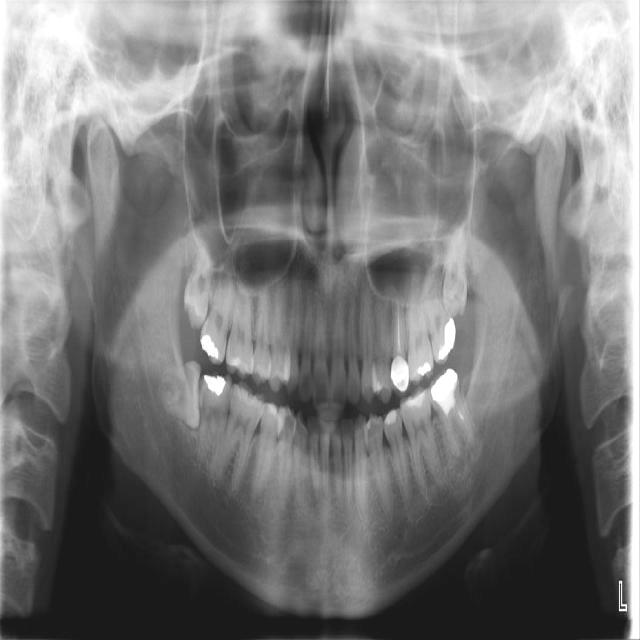Crown: (429, 367, 460, 416), (391, 355, 409, 391)
Filling: (434, 316, 456, 365), (199, 335, 223, 359), (201, 373, 225, 393), (417, 357, 435, 376), (407, 390, 424, 408), (381, 409, 399, 425)
Root Canal Treatment: (399, 305, 404, 355)
impacted tooth: (155, 361, 201, 431), (442, 222, 467, 316), (187, 235, 211, 321)
